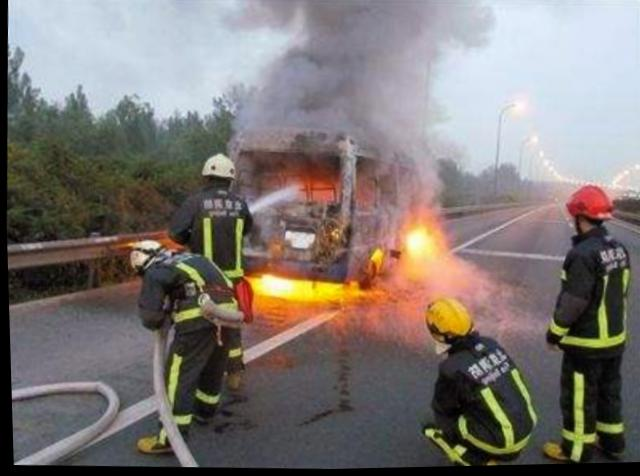fire: (243, 192, 446, 309)
